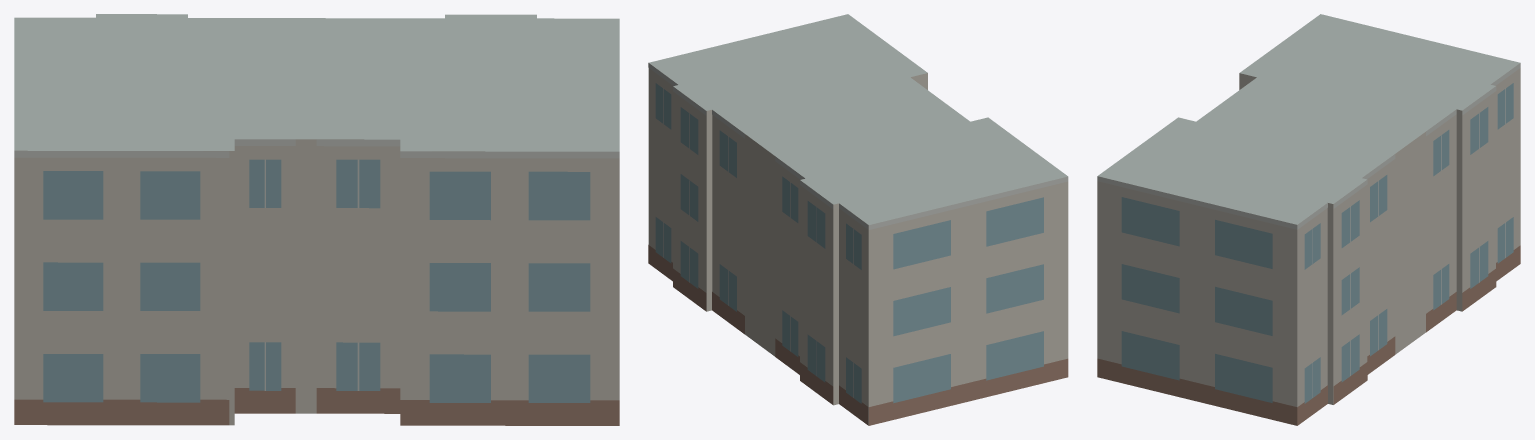
File: survey-upis-32859457.glb
The picture shows the model from 3 angles, left to right: view 1: azimuth 30°, elevation 25°; view 2: azimuth 150°, elevation 25°; view 3: azimuth 270°, elevation 25°; orthographic projection. The views are drawn at different scales.
Visible parts, largest first — view 1: survey-upis-32859457.tmp; view 2: survey-upis-32859457.tmp; view 3: survey-upis-32859457.tmp.
Boxes of the visible parts, left/top/right/bottom form: survey-upis-32859457.tmp: left=14, top=14, right=619, bottom=425; survey-upis-32859457.tmp: left=648, top=14, right=1068, bottom=425; survey-upis-32859457.tmp: left=1097, top=14, right=1520, bottom=425.
Size of the model in its own units: 22.28 by 9.9 by 18.9.
